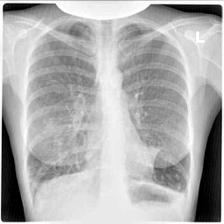tuberculosis: (18, 12, 196, 215)
